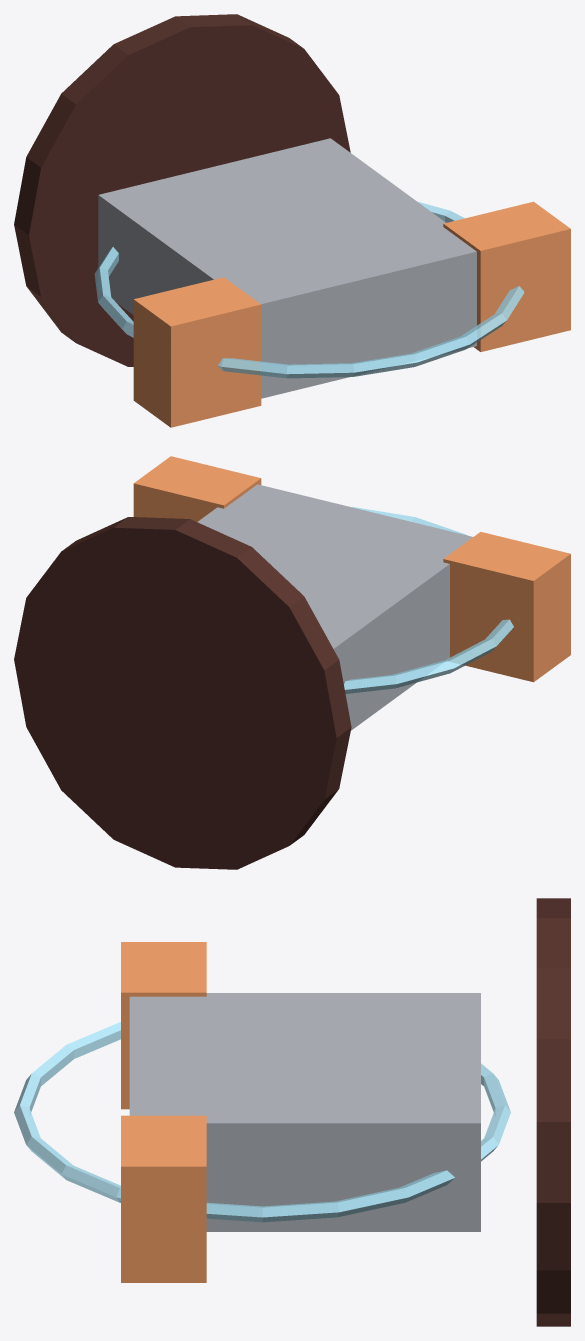
The model's file is 04_high_tier_magic_armor.glb.
3 renders of one model, top to bottom at view 1: azimuth 30°, elevation 25°; view 2: azimuth 150°, elevation 25°; view 3: azimuth 270°, elevation 25°, orthographic. The views are drawn at different scales.
Parts seen in each view (by area): view 1: chest_plate, armor_display_base, pauldron_l, pauldron_r, armor_barrier_ring; view 2: armor_display_base, chest_plate, pauldron_l, pauldron_r, armor_barrier_ring; view 3: chest_plate, armor_display_base, pauldron_r, armor_barrier_ring, pauldron_l.
Part boxes in pixels (x1,y1,x2,y2): chest_plate: (98, 138, 476, 398); armor_display_base: (14, 14, 350, 366); pauldron_l: (133, 277, 261, 427); pauldron_r: (443, 201, 570, 351); armor_barrier_ring: (94, 202, 524, 378); armor_display_base: (14, 517, 351, 869); chest_plate: (197, 484, 472, 730); pauldron_l: (443, 532, 570, 682); pauldron_r: (133, 456, 261, 521); armor_barrier_ring: (344, 507, 513, 693); chest_plate: (129, 993, 480, 1231); armor_display_base: (536, 898, 570, 1326); pauldron_r: (121, 1115, 206, 1282); armor_barrier_ring: (14, 1022, 510, 1222); pauldron_l: (121, 942, 206, 1109).
Size of the model in its own units: 1.24 by 1 by 1.3.
